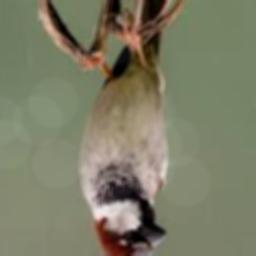Sparrow: (78, 0, 170, 256)
